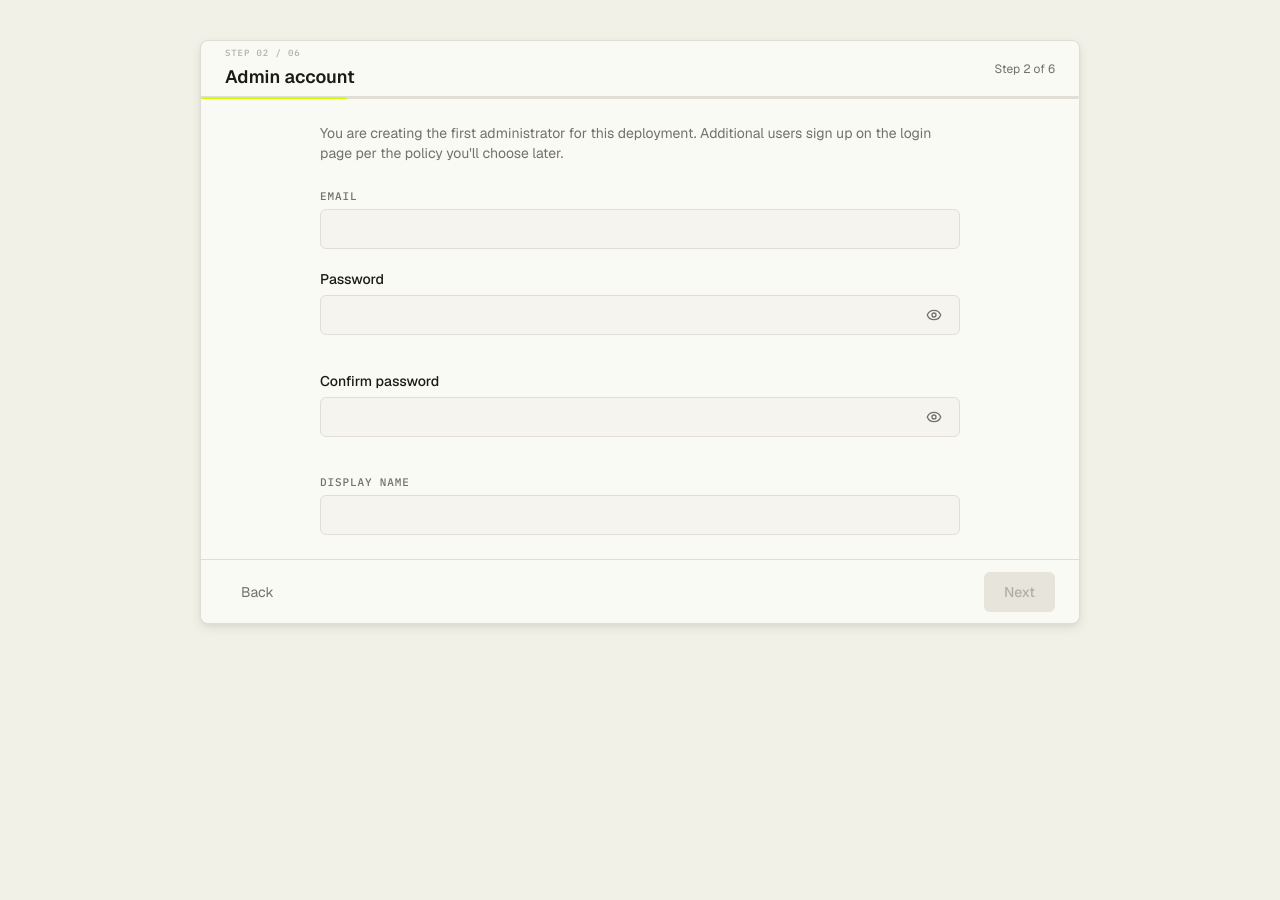
it: AdminAccountStep › disables Next until all fields valid and passwords match
Expected: the button "Next" is disabled, [984, 572, 1055, 612]
Type "boss@example.com" into the field labelled "Email" at (640, 229), box [320, 209, 960, 249]
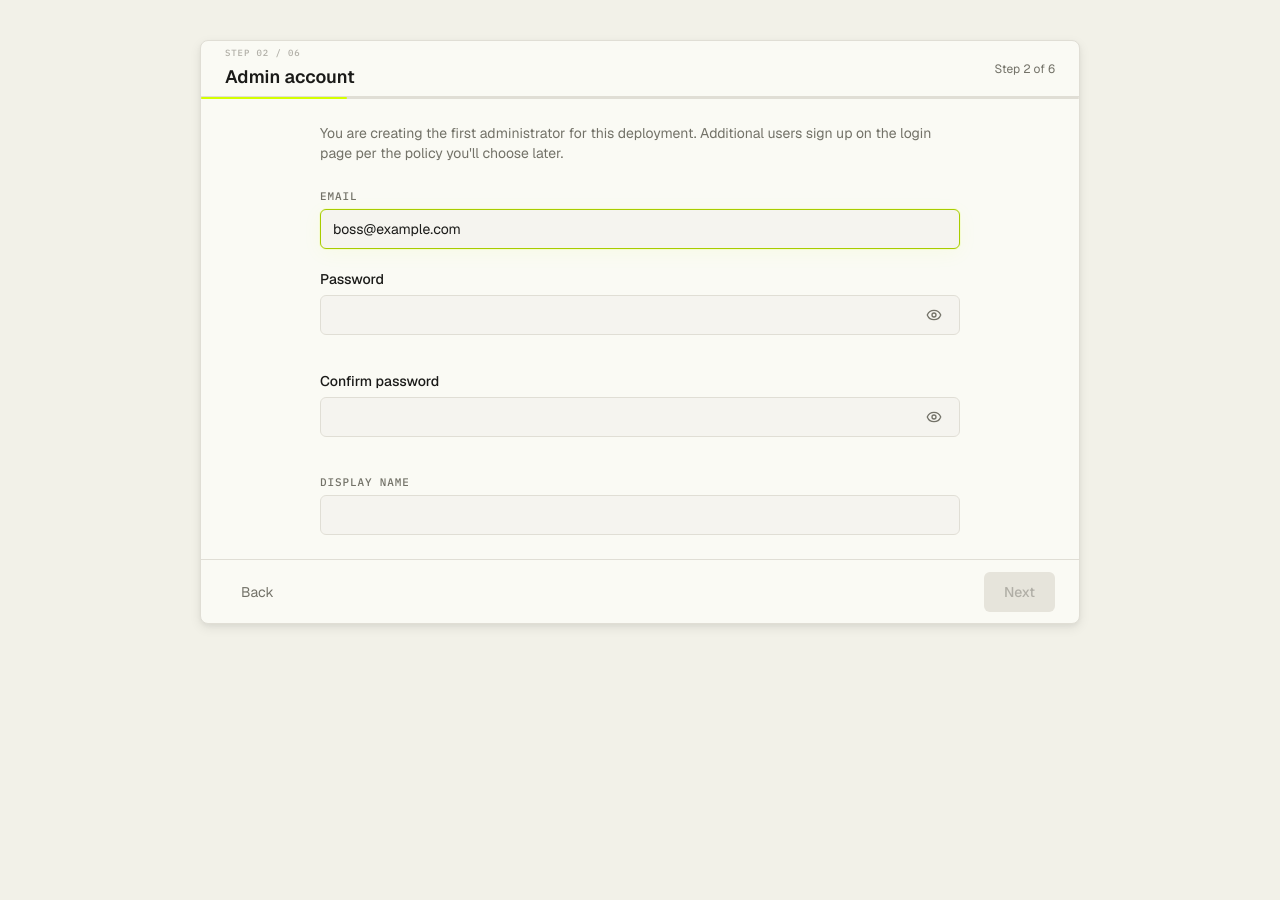
Type "CorrectHorseBattery9!" into the password field labelled "Password" at (640, 315), box [320, 295, 960, 335]
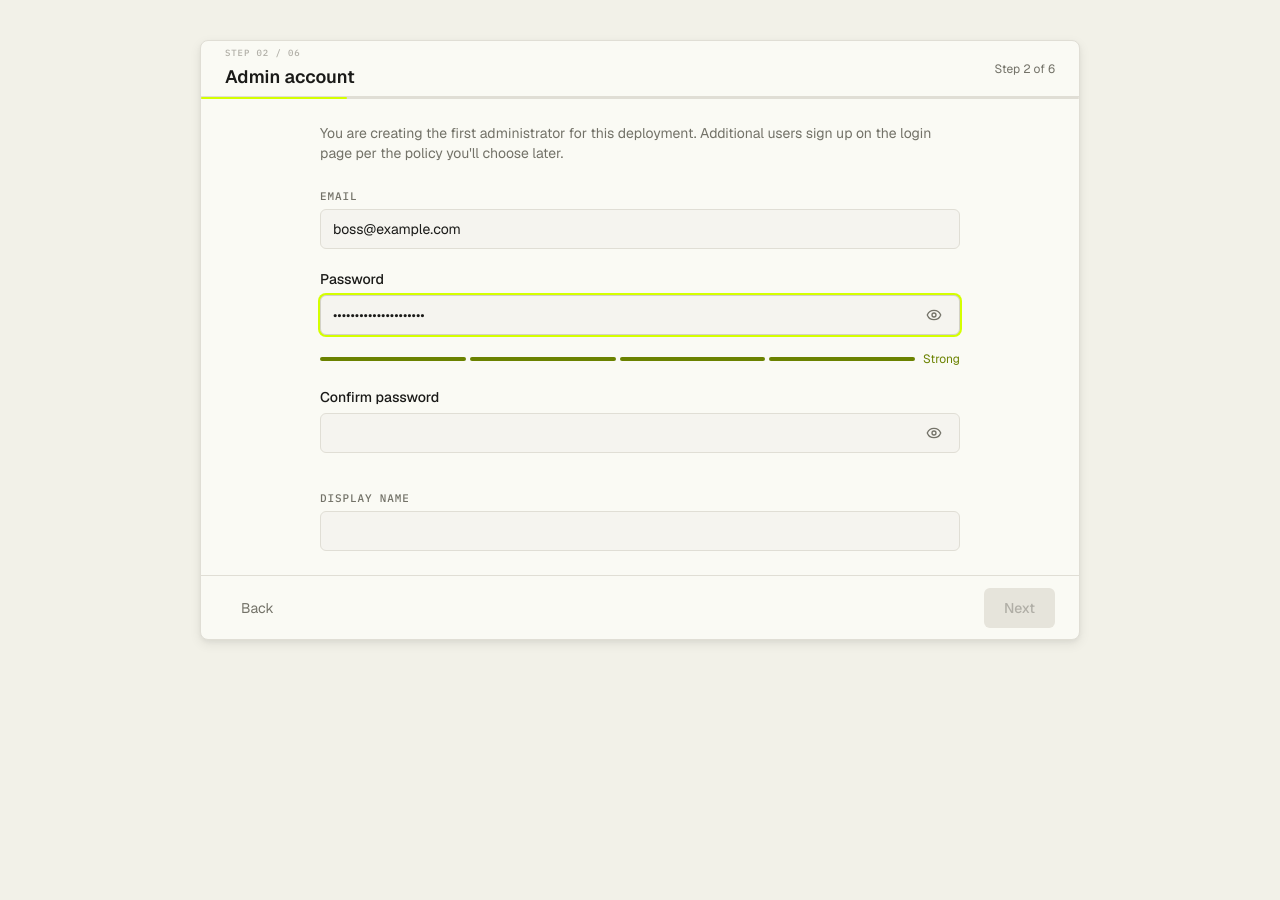
Type "CorrectHorseBattery9!" into the password field labelled "Confirm password" at (640, 433), box [320, 413, 960, 453]
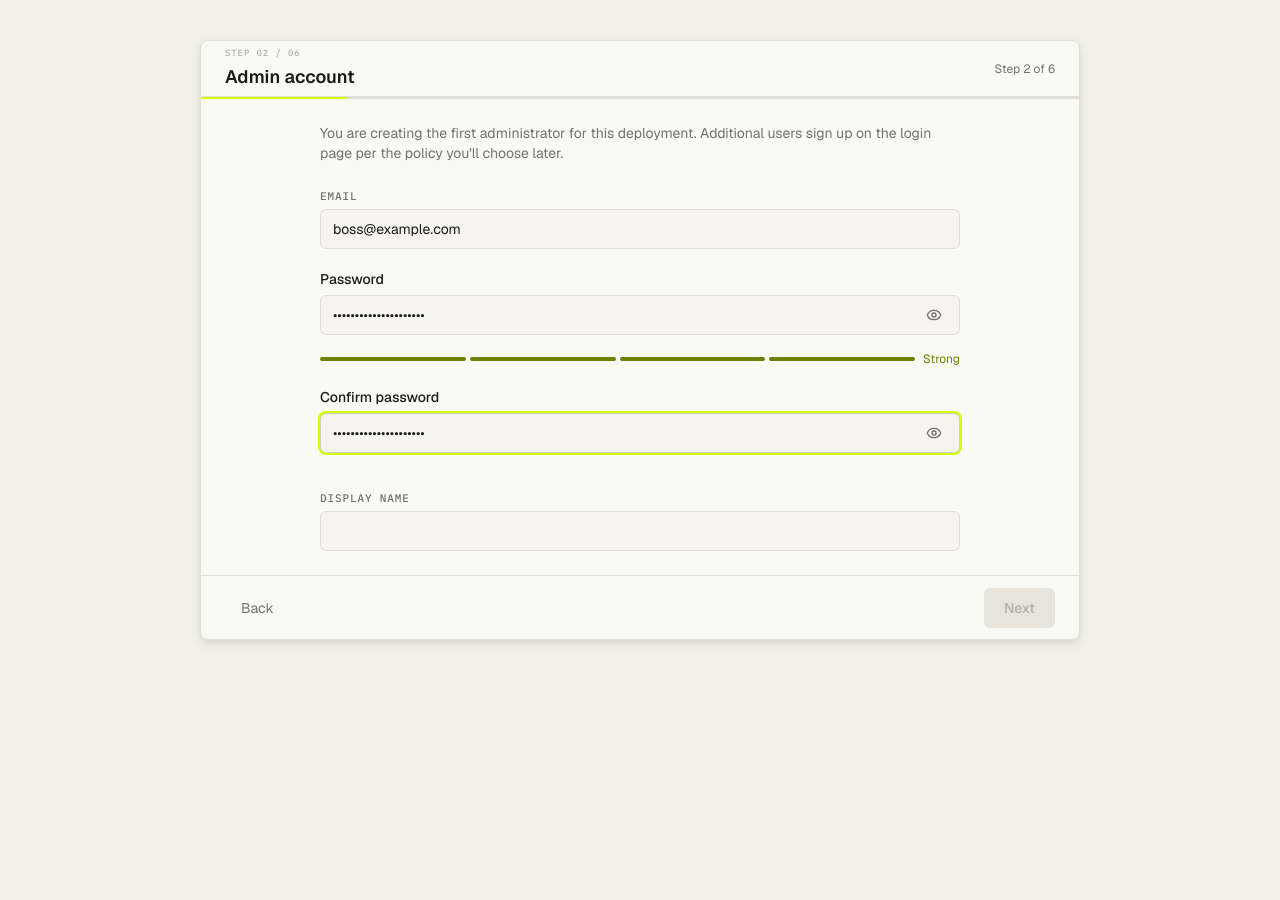
Type "Boss" into the field labelled "Display name" at (640, 531), box [320, 511, 960, 551]
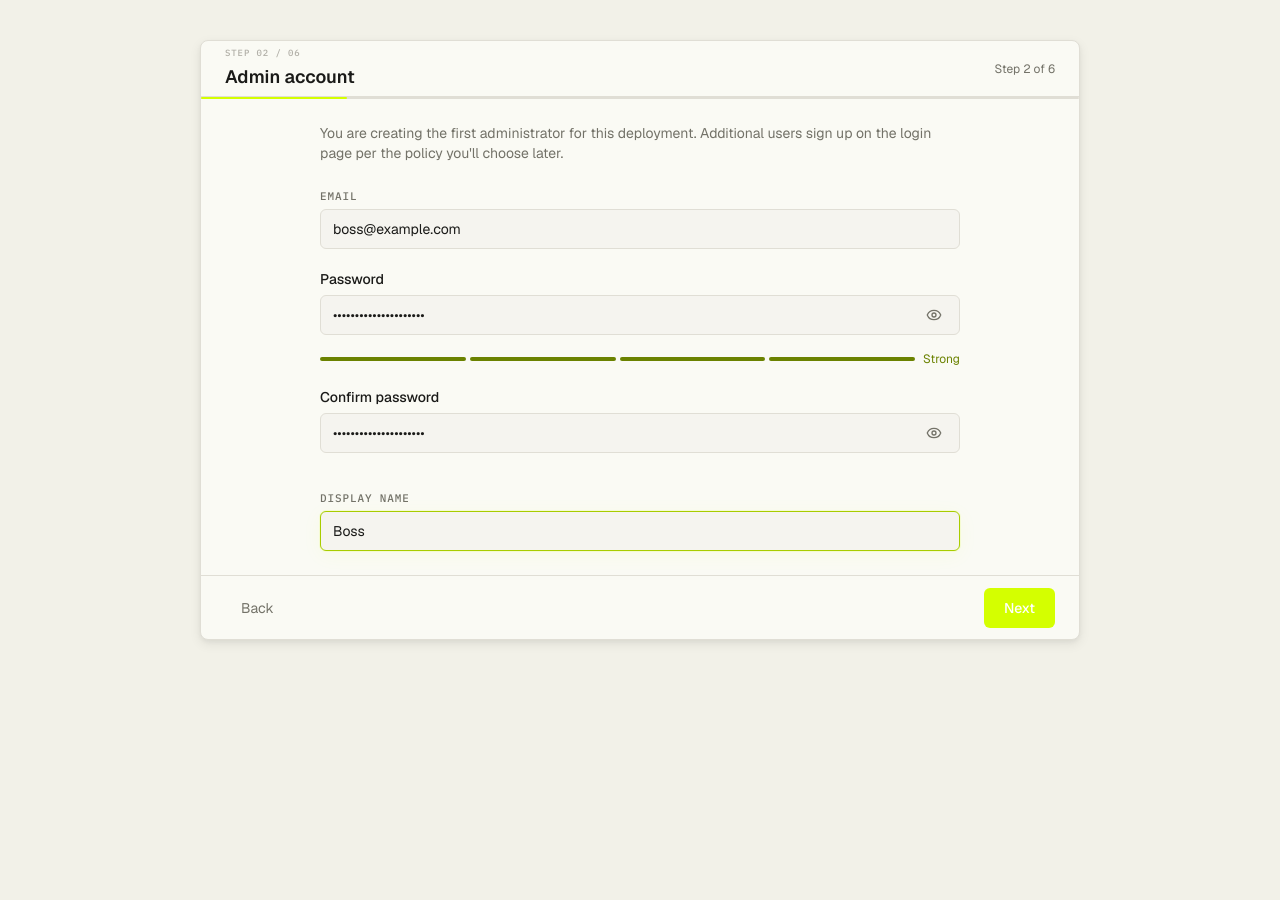
Expected: the button "Next" is enabled, [984, 588, 1055, 628]
